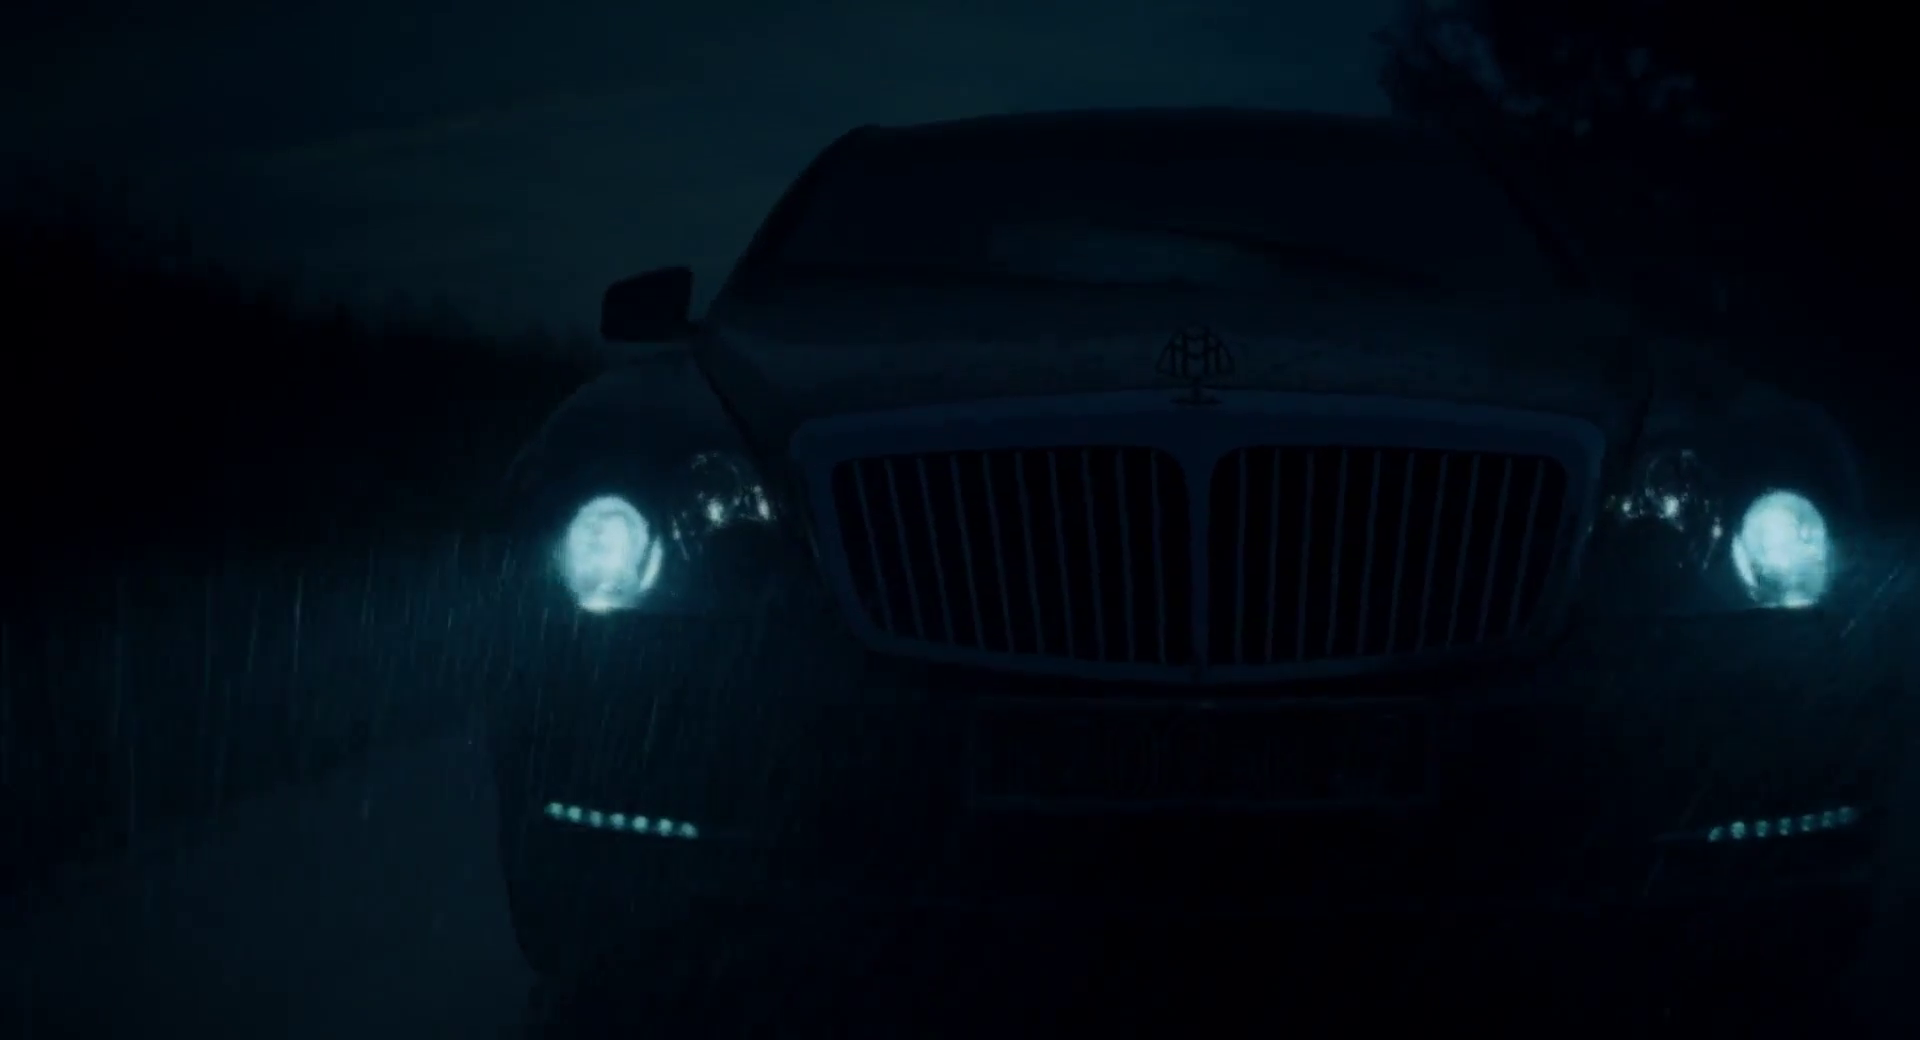car: (454, 99, 1894, 1031)
